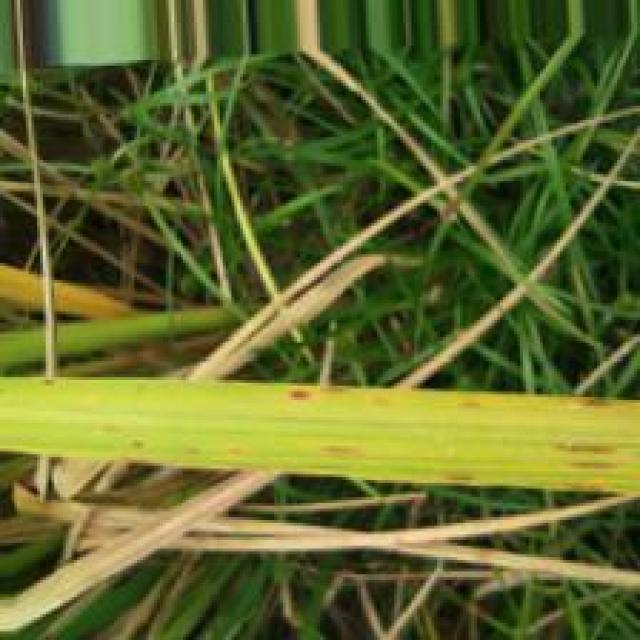Narrow_Brown_Leaf_Spot: (549, 432, 620, 476), (274, 386, 361, 404), (314, 444, 380, 463)
